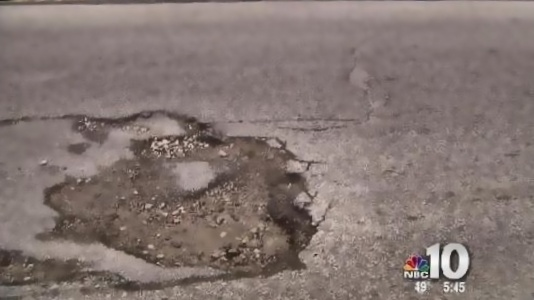pothole: (28, 96, 323, 286)
